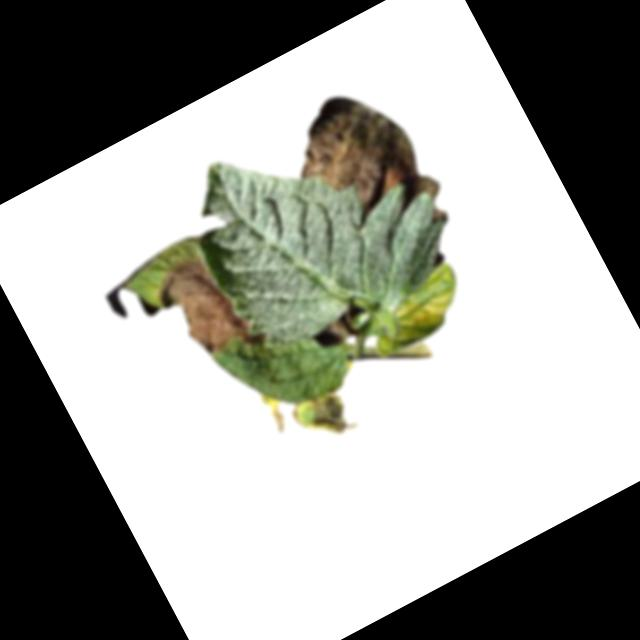Late_blight: (274, 71, 454, 268), (148, 243, 268, 377), (288, 382, 358, 451), (308, 316, 355, 356), (257, 388, 293, 436)
healthy: (165, 77, 472, 377)
